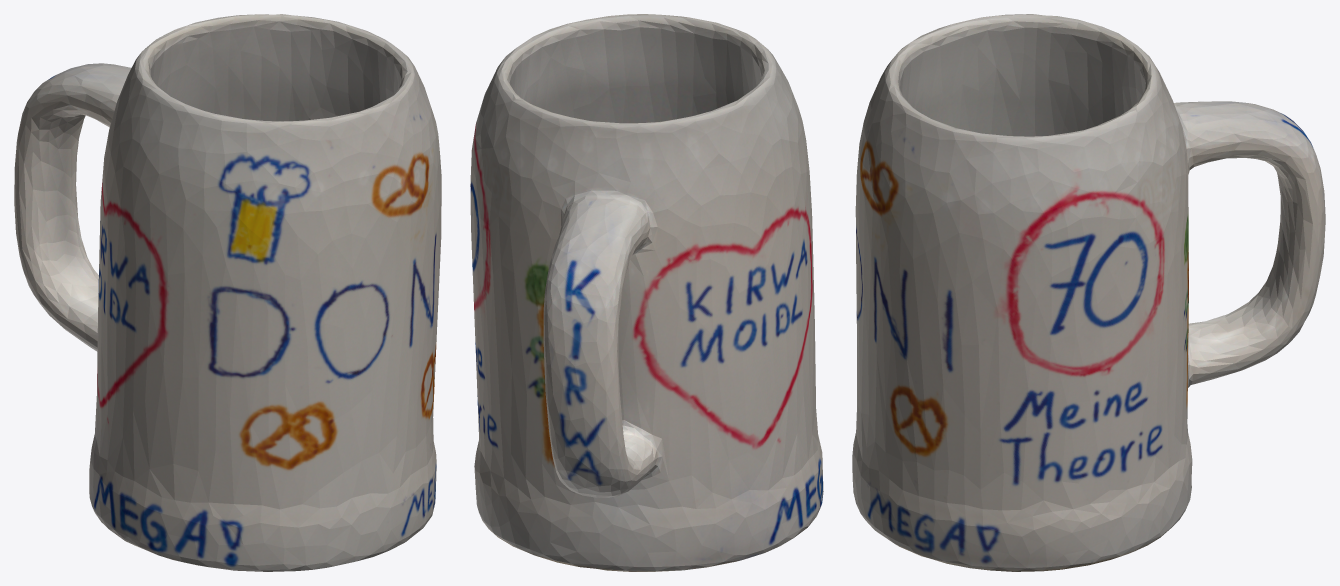
3 views of the same model, side by side, from view 1: azimuth 30°, elevation 25°; view 2: azimuth 150°, elevation 25°; view 3: azimuth 270°, elevation 25° (orthographic).
Parts seen in each view (by area): view 1: Krug Doni_5k_2k; view 2: Krug Doni_5k_2k; view 3: Krug Doni_5k_2k.
Part boxes in pixels (x1,y1,x2,y2): Krug Doni_5k_2k: [14, 14, 441, 571]; Krug Doni_5k_2k: [470, 14, 823, 571]; Krug Doni_5k_2k: [852, 14, 1325, 571].
Bounding box in the file's own units: 0.1007 × 0.1389 × 0.1362.
1 material, 1 textured.
